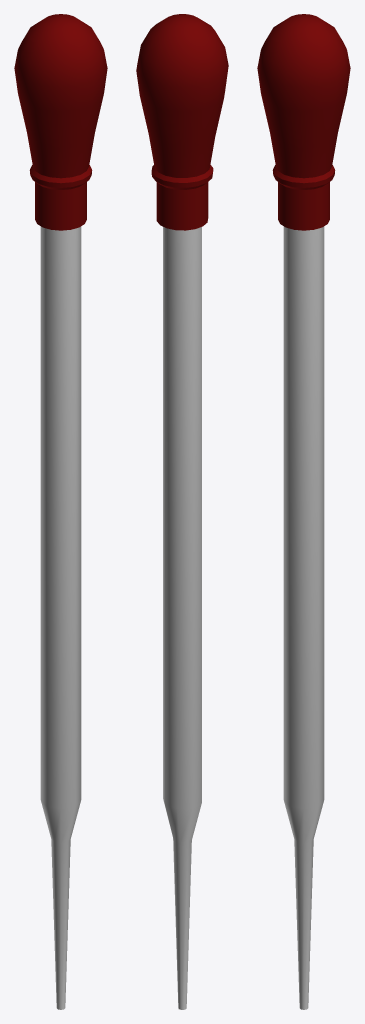
File: Dropper.fbx
3 views of the same model, side by side, from view 1: azimuth 90°, elevation 25°; view 2: azimuth 210°, elevation 25°; view 3: azimuth 270°, elevation 25° (orthographic).
Visible parts, largest first — view 1: Cylinder, Sphere; view 2: Cylinder, Sphere; view 3: Cylinder, Sphere.
Boxes of the visible parts, x1,y1,x2,y2 form: Cylinder: (40, 226, 81, 1009); Sphere: (14, 14, 107, 230); Cylinder: (163, 227, 201, 1009); Sphere: (136, 14, 228, 230); Cylinder: (283, 226, 324, 1009); Sphere: (257, 14, 350, 230).
Size of the model in its own units: 200 by 200 by 2346.
